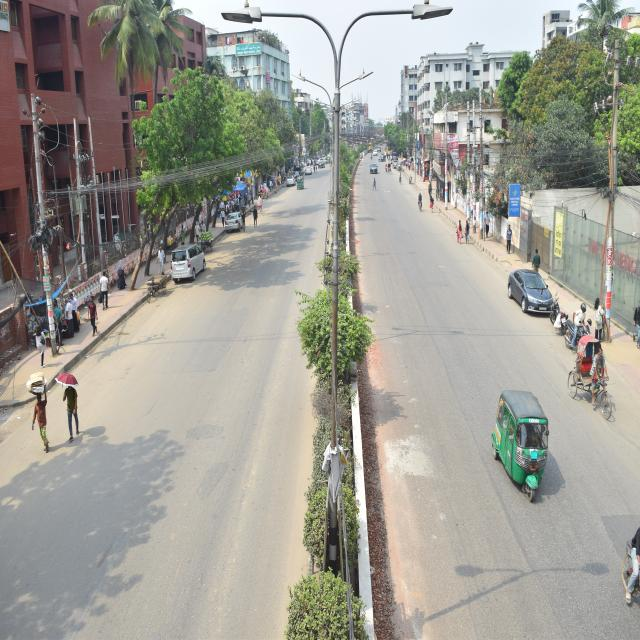car: (507, 239, 551, 333), (212, 201, 247, 243), (303, 154, 318, 188), (312, 145, 326, 179), (280, 170, 299, 192), (366, 160, 378, 176)
microbus: (169, 232, 215, 300)
motorbike: (578, 303, 593, 351), (550, 298, 568, 332)
